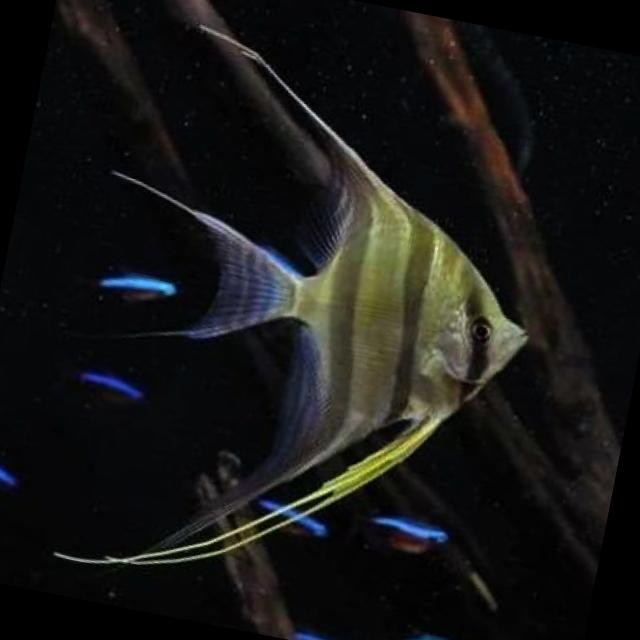AngelFish: (50, 7, 585, 640)
